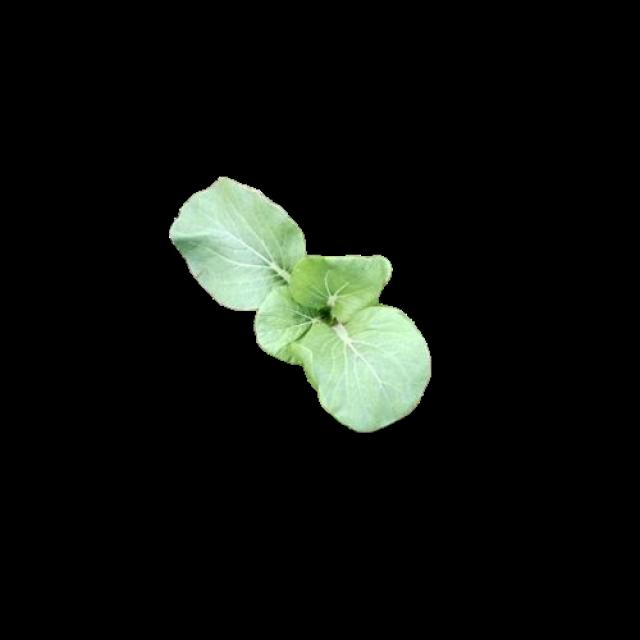healthy: (168, 175, 428, 430)
not-mature: (170, 178, 430, 433)
